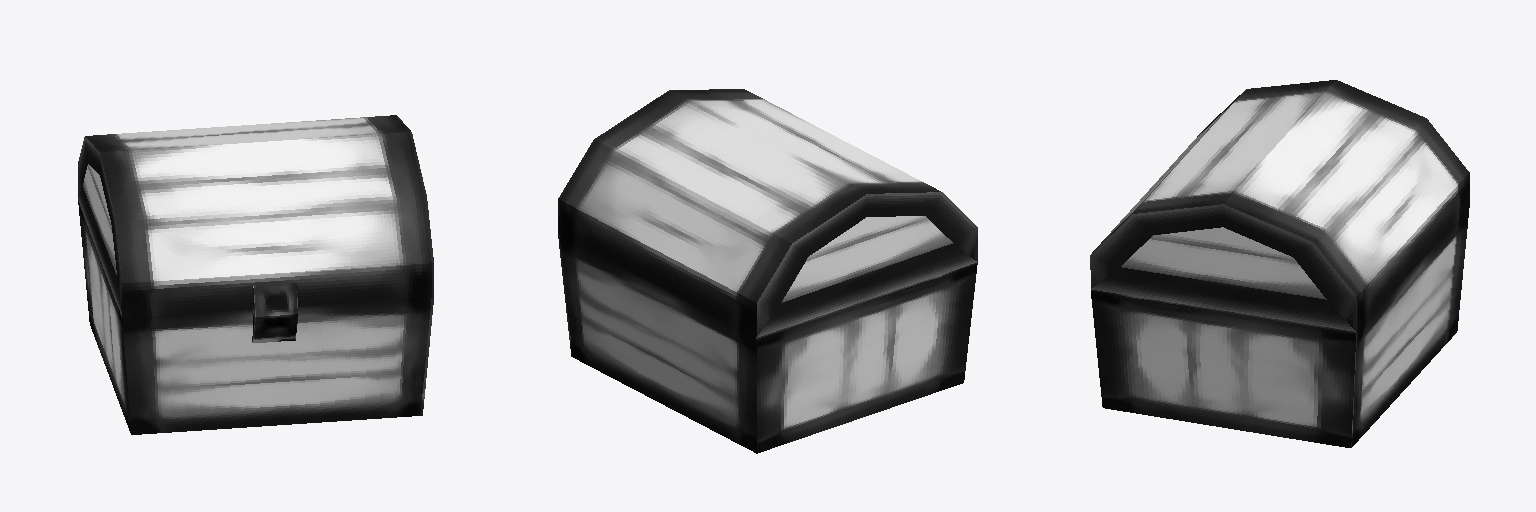
3 renders of one model, left to right at view 1: azimuth 30°, elevation 25°; view 2: azimuth 150°, elevation 25°; view 3: azimuth 270°, elevation 25°, orthographic.
Visible parts, largest first — view 1: chest_chest.001; view 2: chest_chest.001; view 3: chest_chest.001.
Part boxes in pixels (bbox=[...]): chest_chest.001: bbox=[78, 115, 433, 434]; chest_chest.001: bbox=[558, 89, 977, 453]; chest_chest.001: bbox=[1090, 80, 1469, 447].
Bounding box in the file's own units: 3.78 × 2.39 × 3.61.
Materials: 1 (1 with a texture image).